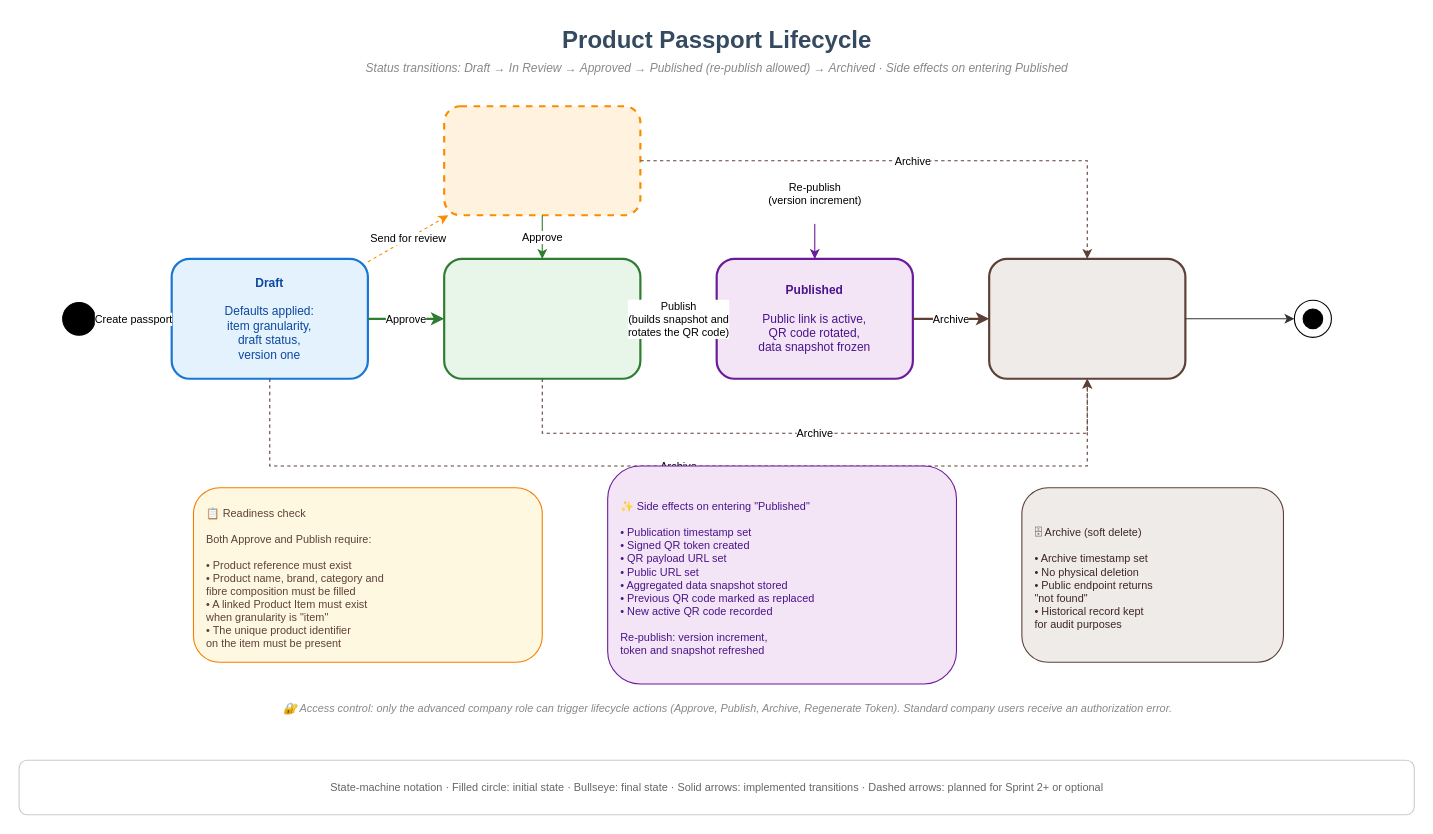
Image size: 1433x834. Some labels were removed from this diagram. Here are the shapes that lost their labels. From the top down, the centre of each, then its label:
At pixel 542 160: "In Review Manual workflow (planned for Sprint 2+)".
At pixel 542 318: "Approved Validation check passed, approval timestamp set".
At pixel 1087 318: "Archived Archive timestamp set (soft delete)".
